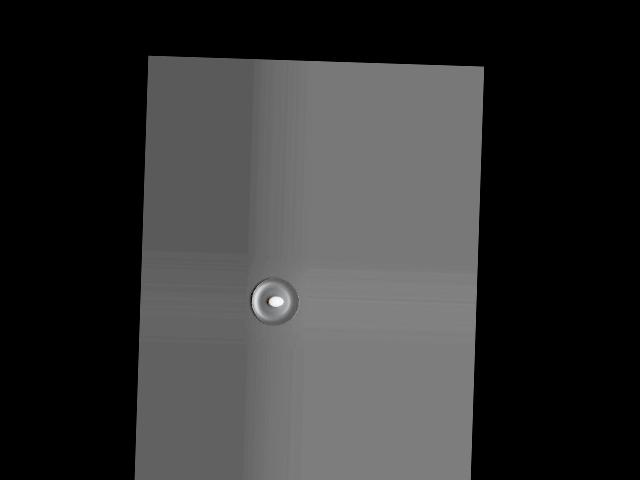egg: (268, 296, 283, 307)
